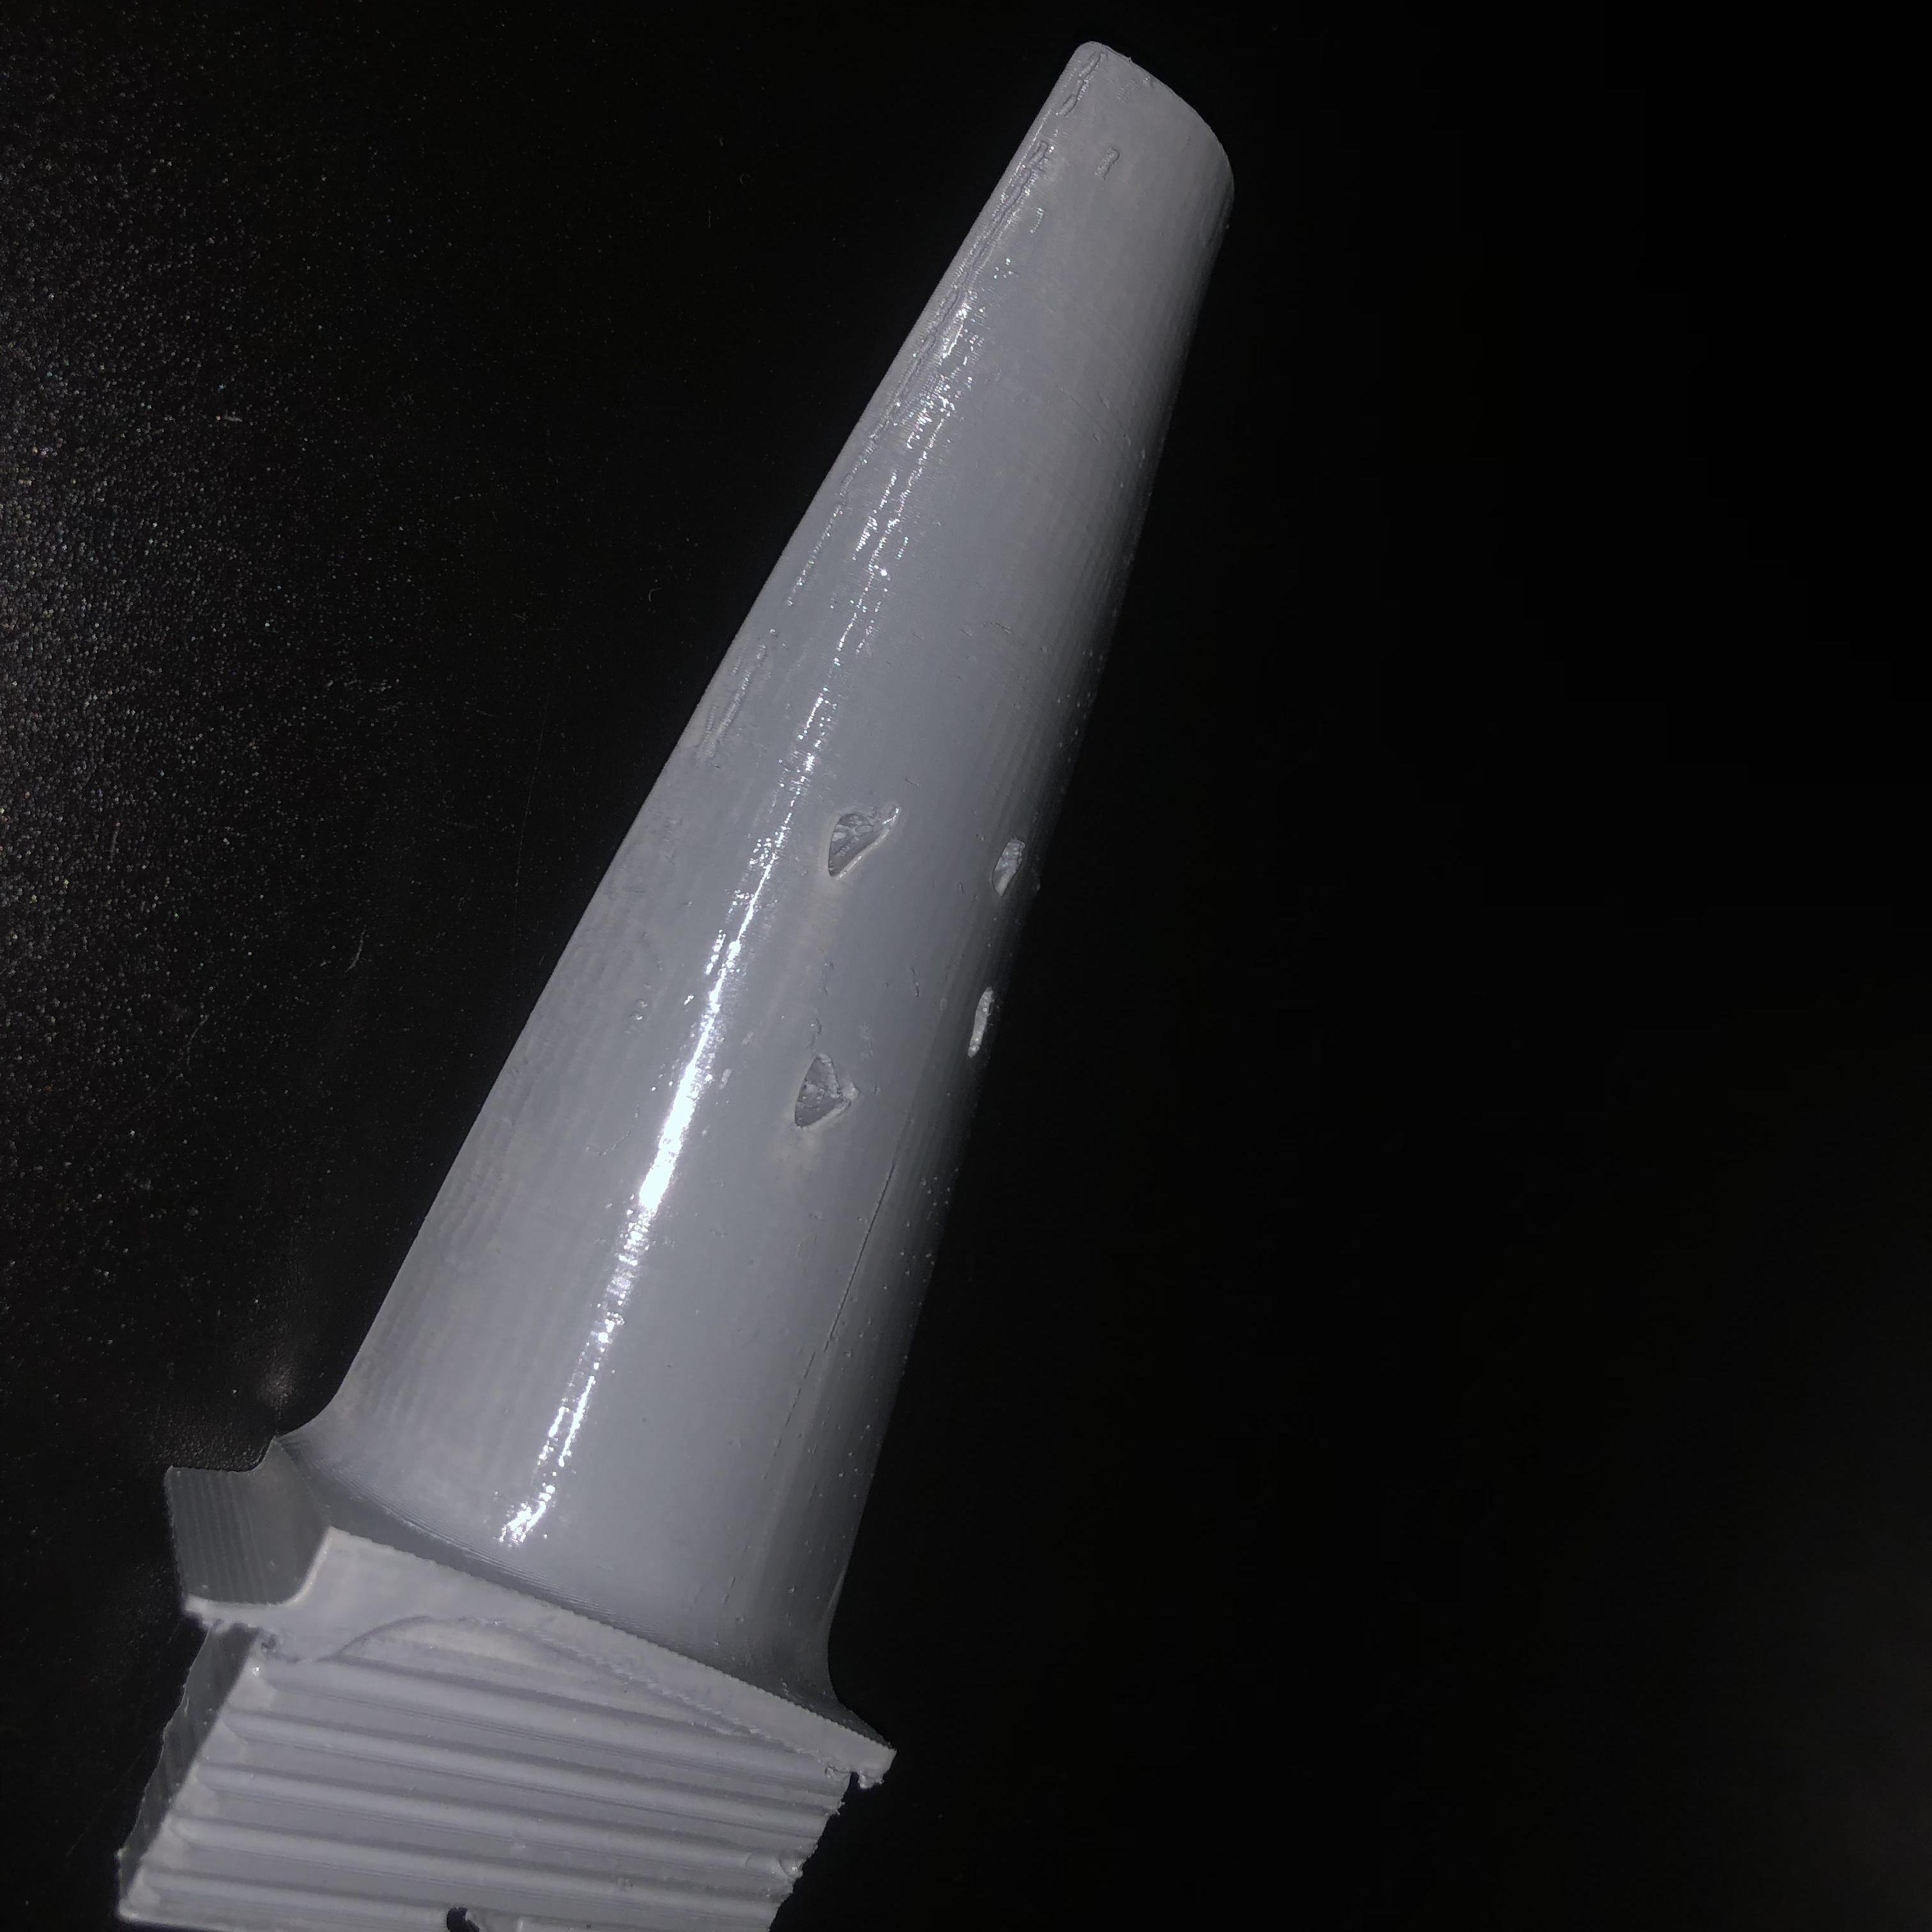breakdown: (794, 800, 1017, 1120)
